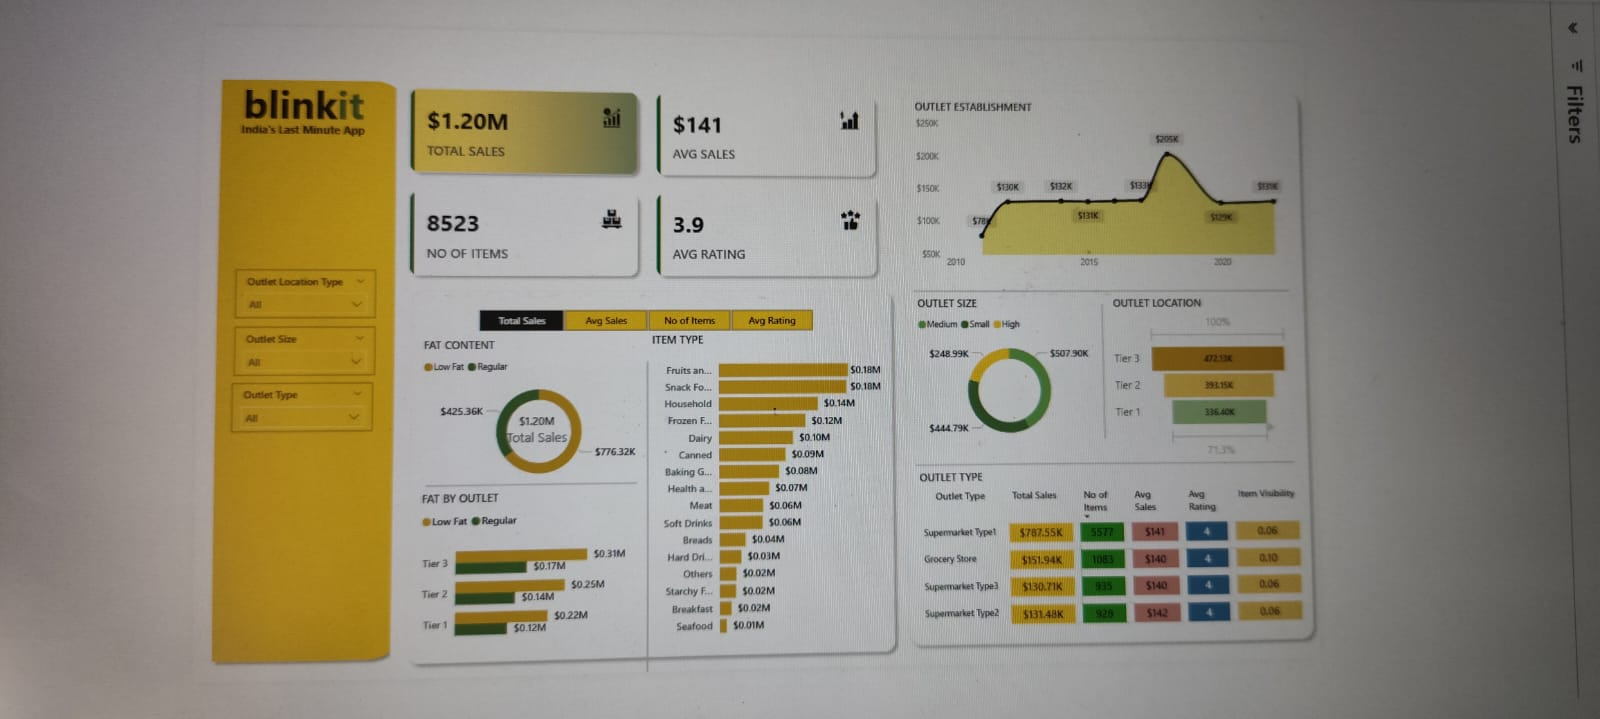

The page's visual inventory and layout, read from the dashboard file:
{"tool":"powerbi","page":{"name":"Page 1","canvas":[1400,800],"ordinal":0},"visuals":[{"type":"shape","box":[13.6,57.6,249.2,727.1],"z":0},{"type":"textbox","box":[233.6,57.9,204.6,742],"z":1000},{"type":"textbox","box":[43.4,113.7,167.4,45.5],"z":2000},{"type":"textbox","box":[44.9,58,163.8,78.3],"z":3000},{"type":"cardVisual","fields":{"Data":["BlinkIT Grocery Data.Total Sales","BlinkIT Grocery Data.Avg Sales","BlinkIT Grocery Data.No of Items","BlinkIT Grocery Data.Avg Rating"]},"box":[233.1,57.8,616.3,269.3],"z":4000},{"type":"shape","box":[244.1,318.6,615.3,472.9],"z":5000},{"type":"donutChart","title":"FAT CONTENT","fields":{"Y":["BlinkIT Grocery Data.Total Sales"],"Category":["BlinkIT Grocery Data.Item Fat Content"]},"box":[262.1,384.9,289.2,189.8],"z":6000},{"type":"slicer","fields":{"Values":["Metrices.Metrices"]},"box":[309,345.2,464.5,39.8],"z":7000},{"type":"cardVisual","fields":{"Data":["BlinkIT Grocery Data.Total Sales"]},"box":[350.6,462.7,110.2,68.7],"z":8000},{"type":"clusteredBarChart","title":"FAT BY OUTLET","fields":{"Y":["BlinkIT Grocery Data.Total Sales"],"Category":["BlinkIT Grocery Data.Outlet Location Type"],"Series":["BlinkIT Grocery Data.Item Fat Content"]},"box":[262.7,574.6,255.9,196.6],"z":9000},{"type":"shape","box":[272.9,563.9,256.6,10.8],"z":10000},{"type":"shape","box":[454.2,416.9,176.3,383.1],"z":11000},{"type":"barChart","title":"ITEM TYPE","fields":{"Y":["BlinkIT Grocery Data.Total Sales"],"Category":["BlinkIT Grocery Data.Item Type"]},"box":[542.2,379.5,298.2,388.6],"z":12000},{"type":"shape","box":[859.3,57.6,540.7,727.1],"z":13000},{"type":"lineChart","title":"OUTLET ESTABLISHMENT","fields":{"Y":["BlinkIT Grocery Data.Total Sales"],"Category":["BlinkIT Grocery Data.Outlet Establishment Year"]},"box":[880.1,77.7,491.6,229.5],"z":14000},{"type":"shape","box":[880.1,321.7,491.6,10.8],"z":15000},{"type":"donutChart","title":"OUTLET SIZE","fields":{"Y":["BlinkIT Grocery Data.Total Sales"],"Category":["BlinkIT Grocery Data.Outlet Size"]},"box":[880.1,332.5,245.8,198.8],"z":16000},{"type":"shape","box":[1012.1,345.2,225.9,173.5],"z":17000},{"type":"funnel","title":"OUTLET LOCATION","fields":{"Category":["BlinkIT Grocery Data.Outlet Location Type"],"Y":["Sum(BlinkIT Grocery Data.Sales)"]},"box":[1135,332.5,236.8,215.1],"z":18000},{"type":"shape","box":[880.1,542.2,491.6,14.5],"z":19000},{"type":"pivotTable","title":"OUTLET TYPE","fields":{"Rows":["BlinkIT Grocery Data.Outlet Type"],"Values":["BlinkIT Grocery Data.Total Sales","BlinkIT Grocery Data.No of Items","BlinkIT Grocery Data.Avg Sales","BlinkIT Grocery Data.Avg Rating","Avg(BlinkIT Grocery Data.Item Visibility)"]},"box":[879.7,555.9,505.1,215.3],"z":20000},{"type":"slicer","fields":{"Values":["BlinkIT Grocery Data.Outlet Location Type"]},"box":[44.1,301.7,166.1,59.3],"z":21000},{"type":"slicer","fields":{"Values":["BlinkIT Grocery Data.Outlet Size"]},"box":[44.1,372.9,166.1,59.3],"z":22000},{"type":"slicer","fields":{"Values":["BlinkIT Grocery Data.Outlet Type"]},"box":[42.4,440.7,166.1,59.3],"z":23000}]}

Visuals, with their boxes on the page's 1400x800 design canvas (x1, y1, x2, y2). These are canvas units, not pixel positions in the 1600x719 screenshot, which may show the page scaled, cropped or inside an application window:
shape: [left=14, top=58, right=263, bottom=785]
textbox: [left=234, top=58, right=438, bottom=800]
textbox: [left=43, top=114, right=211, bottom=159]
textbox: [left=45, top=58, right=209, bottom=136]
cardVisual - BlinkIT Grocery Data.Total Sales x BlinkIT Grocery Data.Avg Sales: [left=233, top=58, right=849, bottom=327]
shape: [left=244, top=319, right=859, bottom=792]
"FAT CONTENT" donutChart: [left=262, top=385, right=551, bottom=575]
slicer - Metrices.Metrices: [left=309, top=345, right=774, bottom=385]
cardVisual - BlinkIT Grocery Data.Total Sales: [left=351, top=463, right=461, bottom=531]
"FAT BY OUTLET" clusteredBarChart: [left=263, top=575, right=519, bottom=771]
shape: [left=273, top=564, right=530, bottom=575]
shape: [left=454, top=417, right=630, bottom=800]
"ITEM TYPE" barChart: [left=542, top=380, right=840, bottom=768]
shape: [left=859, top=58, right=1400, bottom=785]
"OUTLET ESTABLISHMENT" lineChart: [left=880, top=78, right=1372, bottom=307]
shape: [left=880, top=322, right=1372, bottom=332]
"OUTLET SIZE" donutChart: [left=880, top=332, right=1126, bottom=531]
shape: [left=1012, top=345, right=1238, bottom=519]
"OUTLET LOCATION" funnel: [left=1135, top=332, right=1372, bottom=548]
shape: [left=880, top=542, right=1372, bottom=557]
"OUTLET TYPE" pivotTable: [left=880, top=556, right=1385, bottom=771]
slicer - BlinkIT Grocery Data.Outlet Location Type: [left=44, top=302, right=210, bottom=361]
slicer - BlinkIT Grocery Data.Outlet Size: [left=44, top=373, right=210, bottom=432]
slicer - BlinkIT Grocery Data.Outlet Type: [left=42, top=441, right=208, bottom=500]
